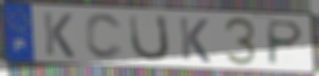3: (222, 15, 259, 68)
C: (84, 12, 126, 62)
K: (41, 10, 77, 60), (177, 15, 213, 65)
P: (266, 19, 307, 67)
U: (128, 13, 172, 64)
